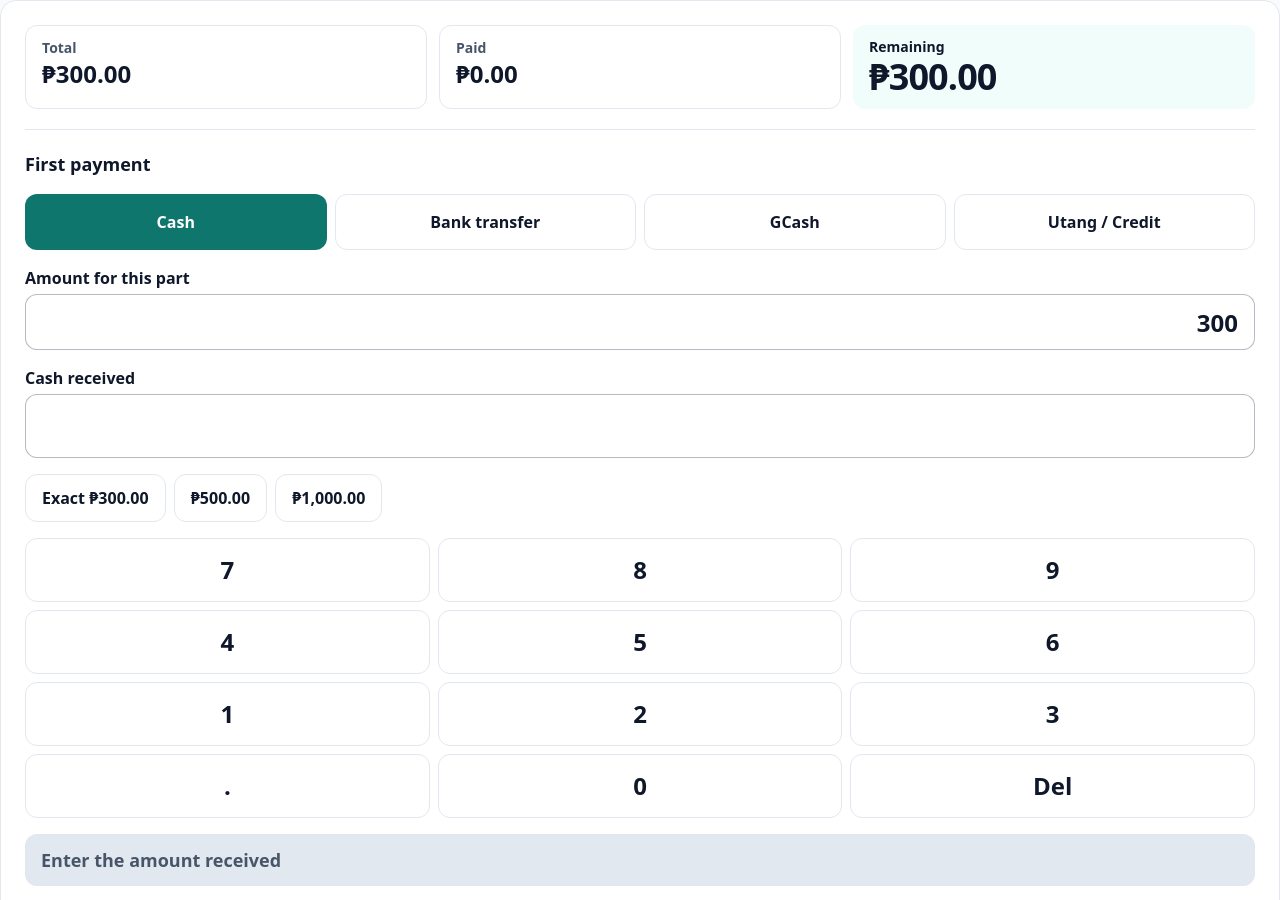
Test: SplitTenderPanel › needs a customer account for Utang and warns past the available credit, like the single flow
Click the radio button labelled "Utang / Credit". click: click(1104, 222)
box: [954, 194, 1255, 250]
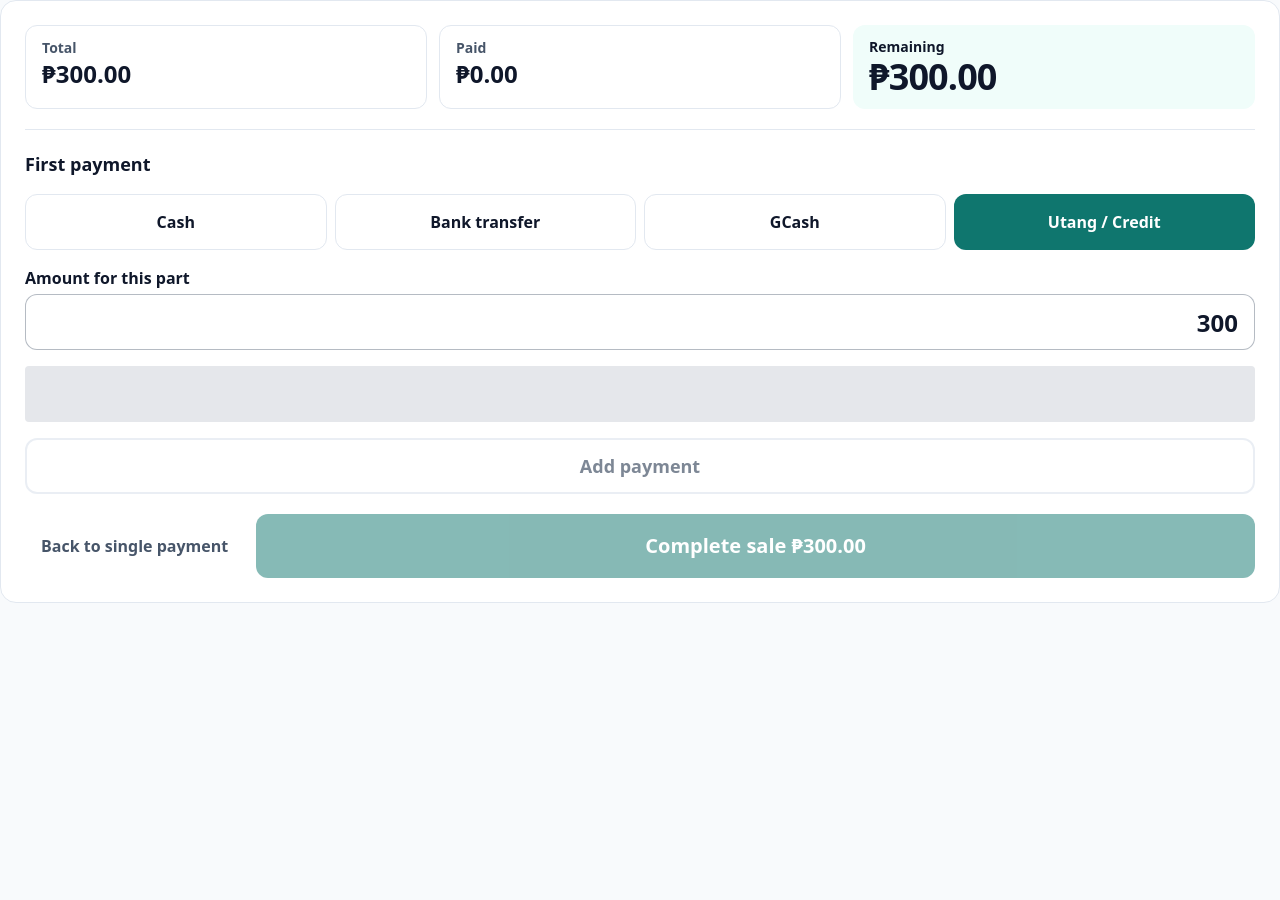
Replace the text in the field labelled "Amount for this part" with "150". click: (640, 322)
box: [25, 294, 1255, 350]
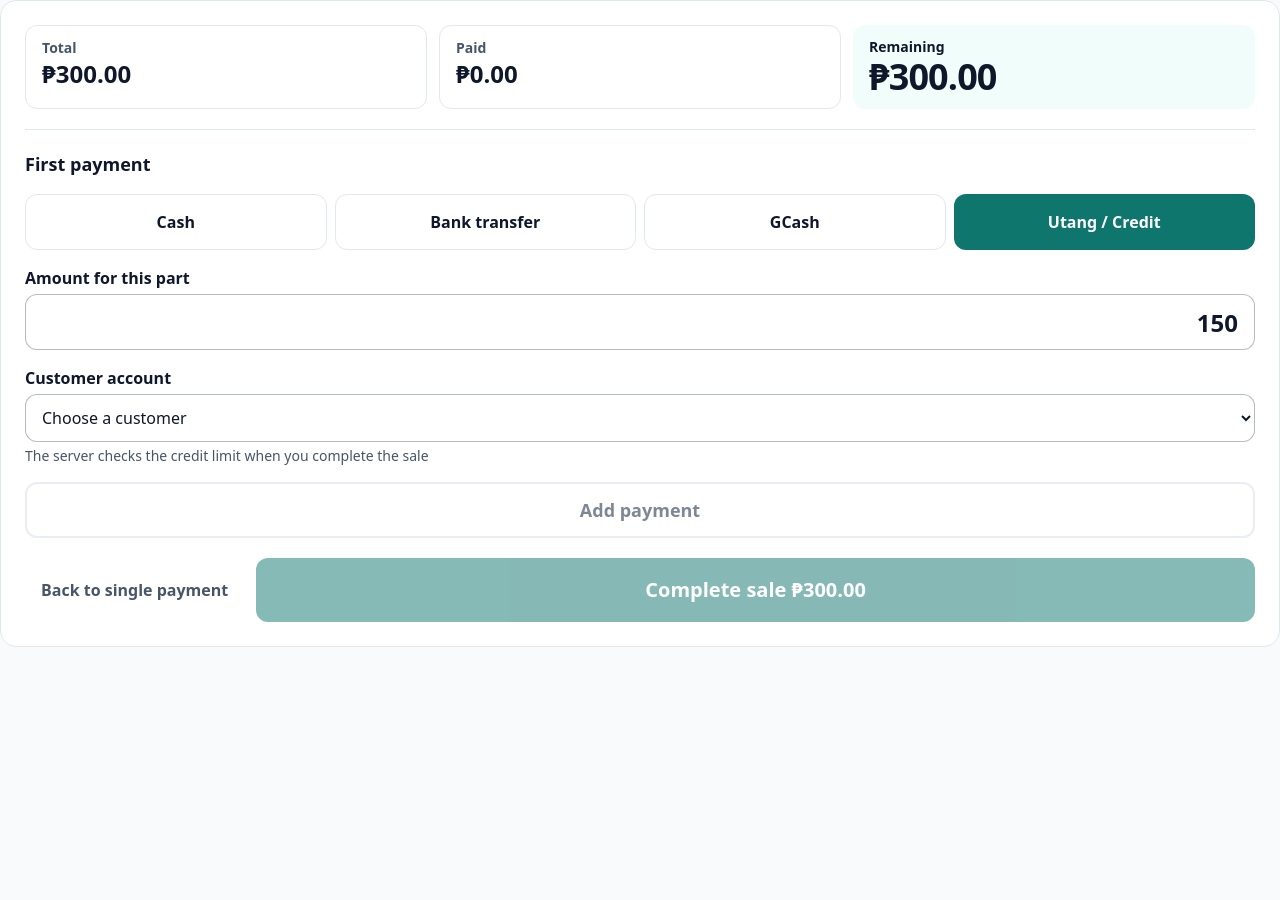
Expected: the button "Add payment" is disabled, [25, 482, 1255, 538]
Select "Aling Nena (₱100.00 available)" in the dropdown labelled "Customer account". click: (640, 418)
box: [25, 394, 1255, 442]
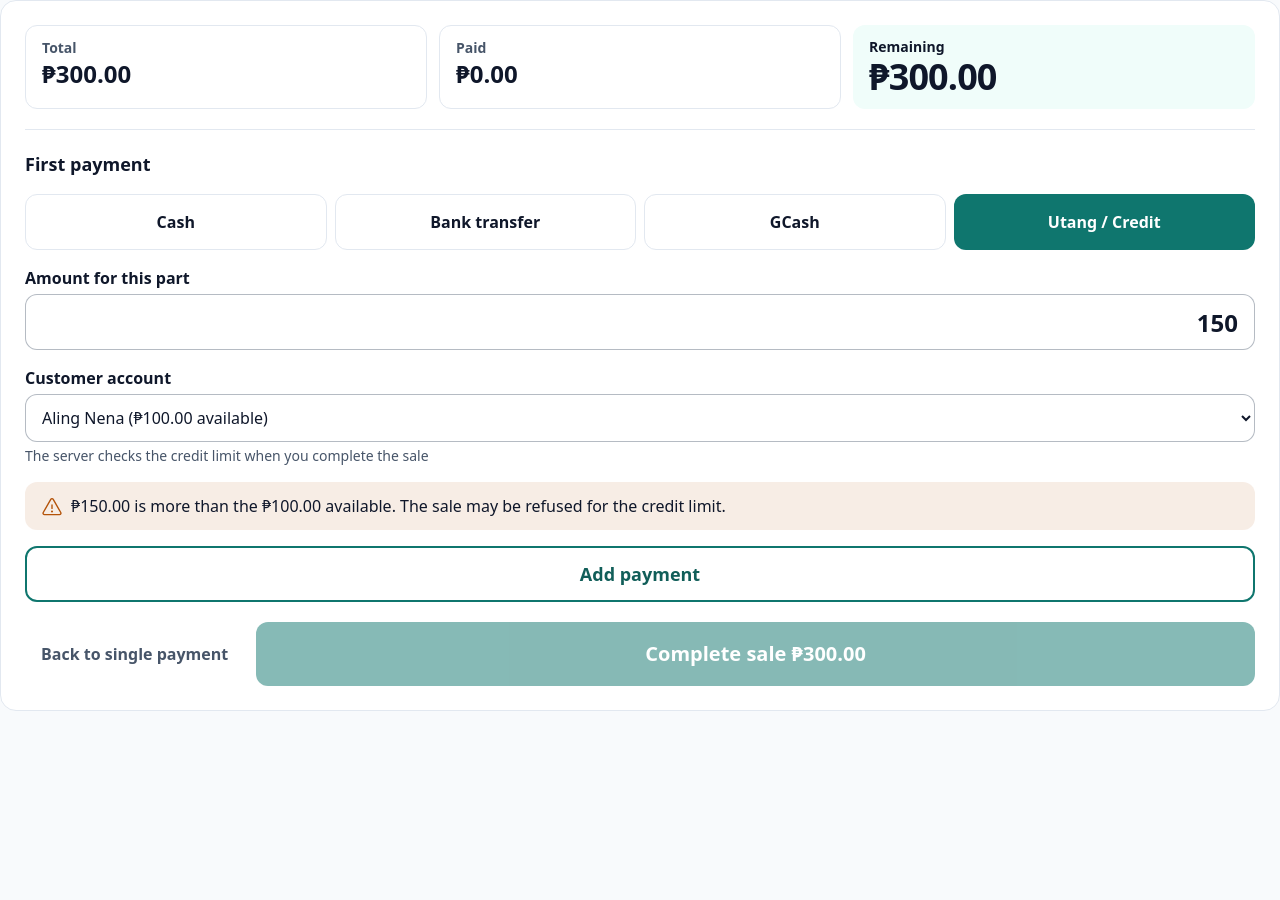
Expected: the text "more than the ₱100.00 available" is shown, [25, 482, 1255, 530]
